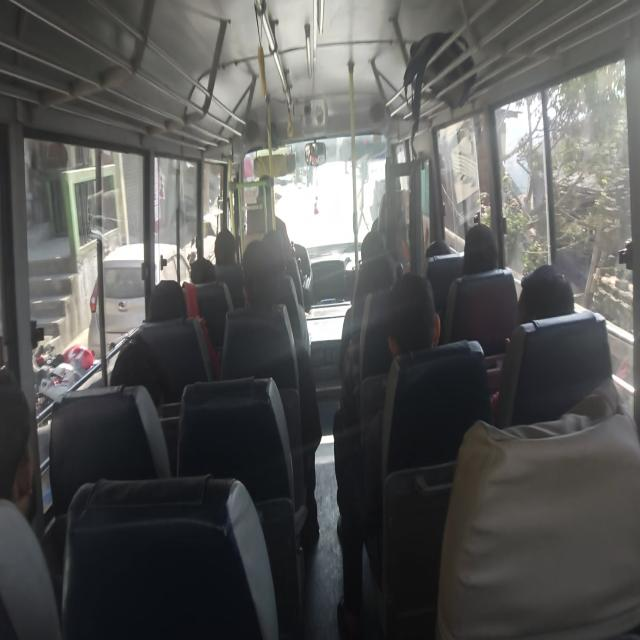person: (0, 371, 50, 568), (244, 233, 290, 329), (120, 336, 172, 419), (388, 286, 444, 356), (518, 268, 574, 324), (466, 225, 506, 278), (150, 275, 190, 327), (218, 224, 248, 284), (424, 229, 459, 270), (189, 260, 224, 298), (360, 235, 390, 278), (264, 230, 296, 269), (374, 252, 403, 285)
